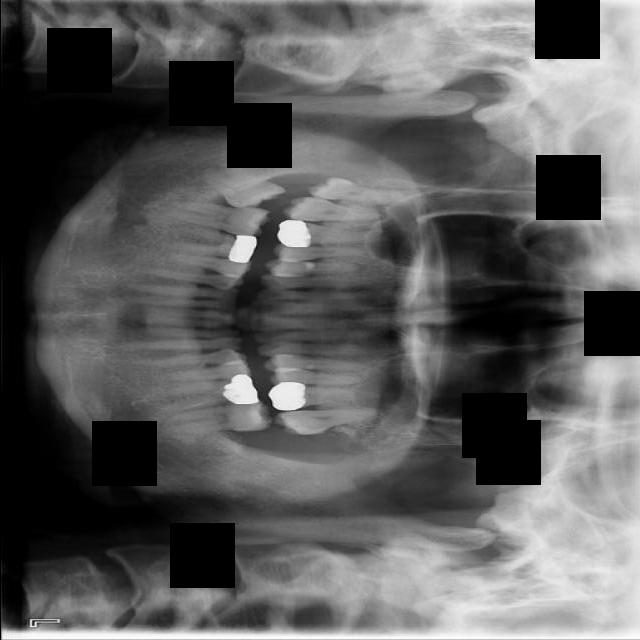3M ESPE Implant: (307, 176, 411, 205)
52: (219, 372, 259, 408), (225, 230, 259, 268), (267, 382, 305, 411), (276, 219, 311, 248)
73: (165, 377, 237, 415), (49, 532, 62, 539)
BioHorizons Implant: (273, 408, 366, 436)
Blue Sky Bio Implant: (167, 398, 271, 436)
Caries: (281, 196, 386, 225)
Implant: (164, 198, 270, 240)
Keystone Dental Implant: (193, 149, 287, 226)
